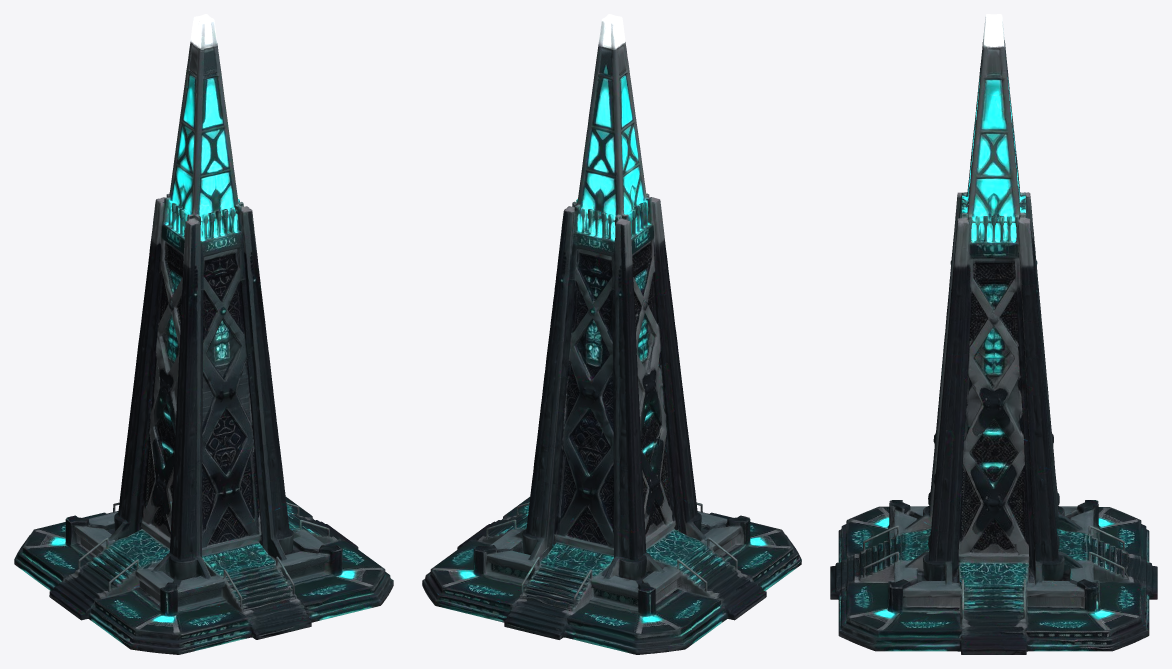
File: orai_tower_mobile.glb
3 views of the same model, side by side, from view 1: azimuth 30°, elevation 25°; view 2: azimuth 150°, elevation 25°; view 3: azimuth 270°, elevation 25° (orthographic). The views are drawn at different scales.
Size of the model in its own units: 0.9912 by 1.9 by 0.9909.
Materials: 1 (1 with a texture image).
